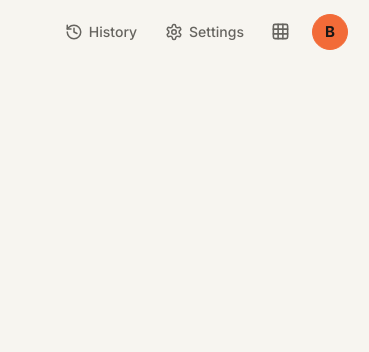
Header › hides the admin link from a normal user
Expected: the button named "Account menu for Bob" is shown, [308, 10, 352, 54]
Click the button named "PH apps" at [280, 32], box [260, 12, 300, 52]
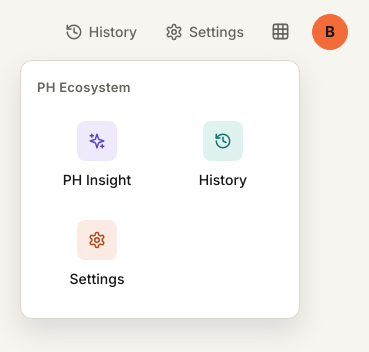
Now the text "PH Ecosystem" is shown, box [37, 78, 131, 94]
